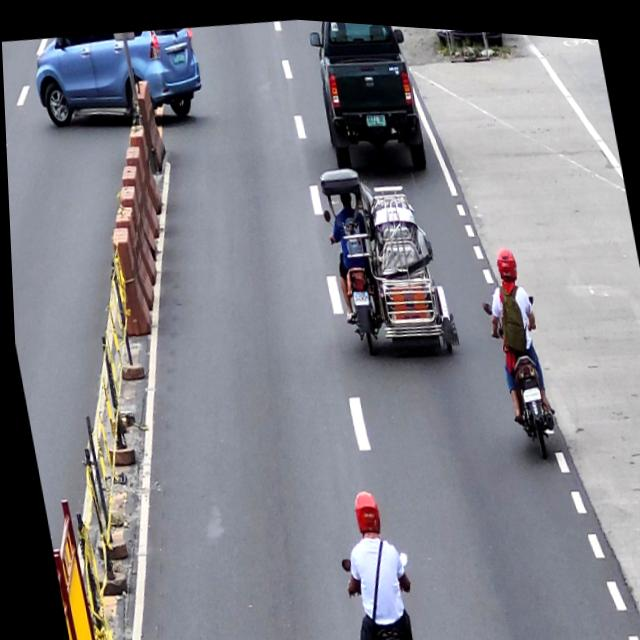Car: (27, 16, 207, 133), (305, 16, 430, 175)
License-Plate: (364, 105, 386, 124), (519, 379, 539, 398), (350, 285, 368, 302)
Motorcycle: (480, 280, 560, 458)
Tricycle: (317, 152, 458, 364)
